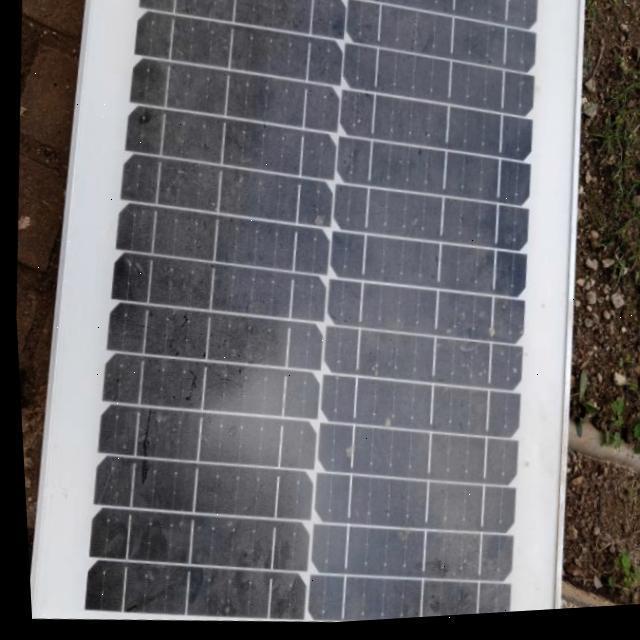Surface Contaminant: (65, 0, 551, 626)
